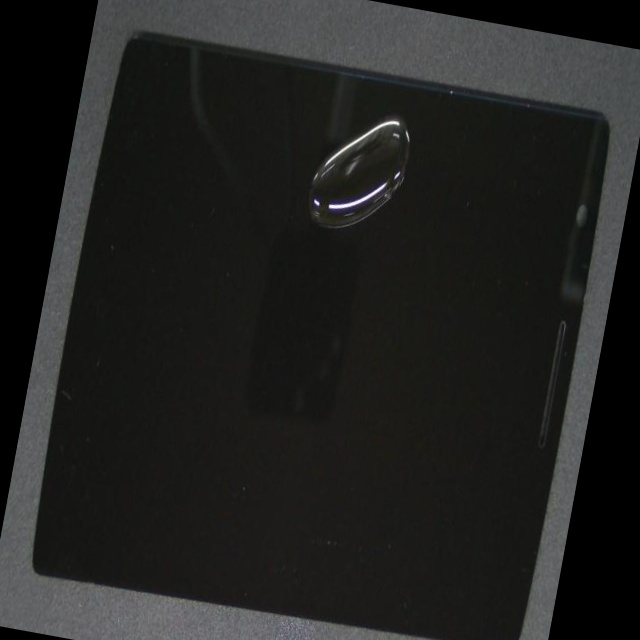oil: (234, 100, 578, 261)
